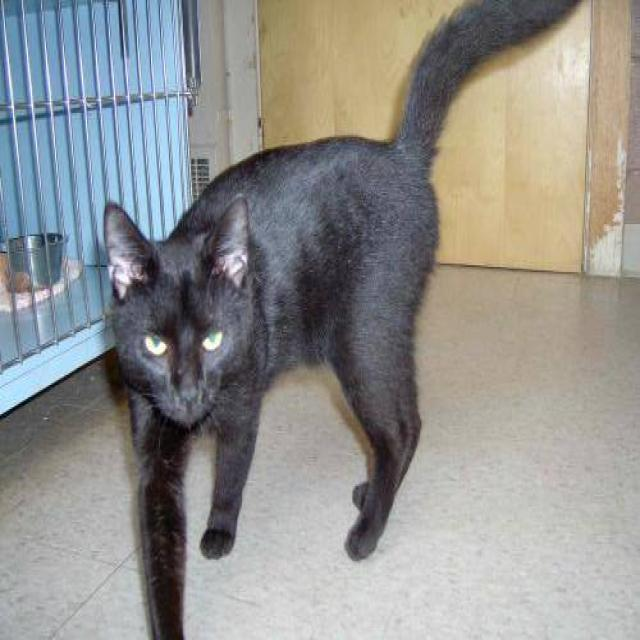cat: (101, 0, 583, 638)
